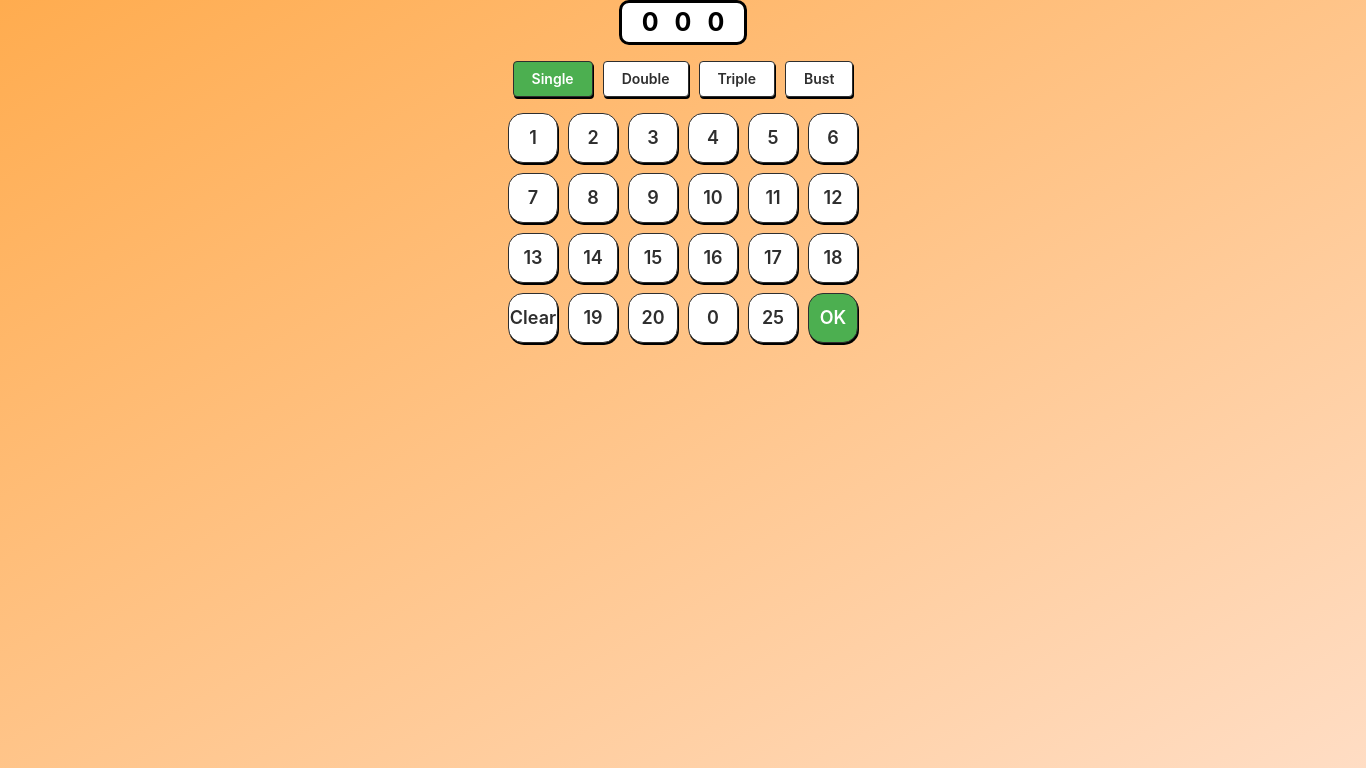
Test: InputThrowTornooi › should show error when throwing more then 3 darts
Click the button "20" at (653, 318), box [628, 293, 678, 343]
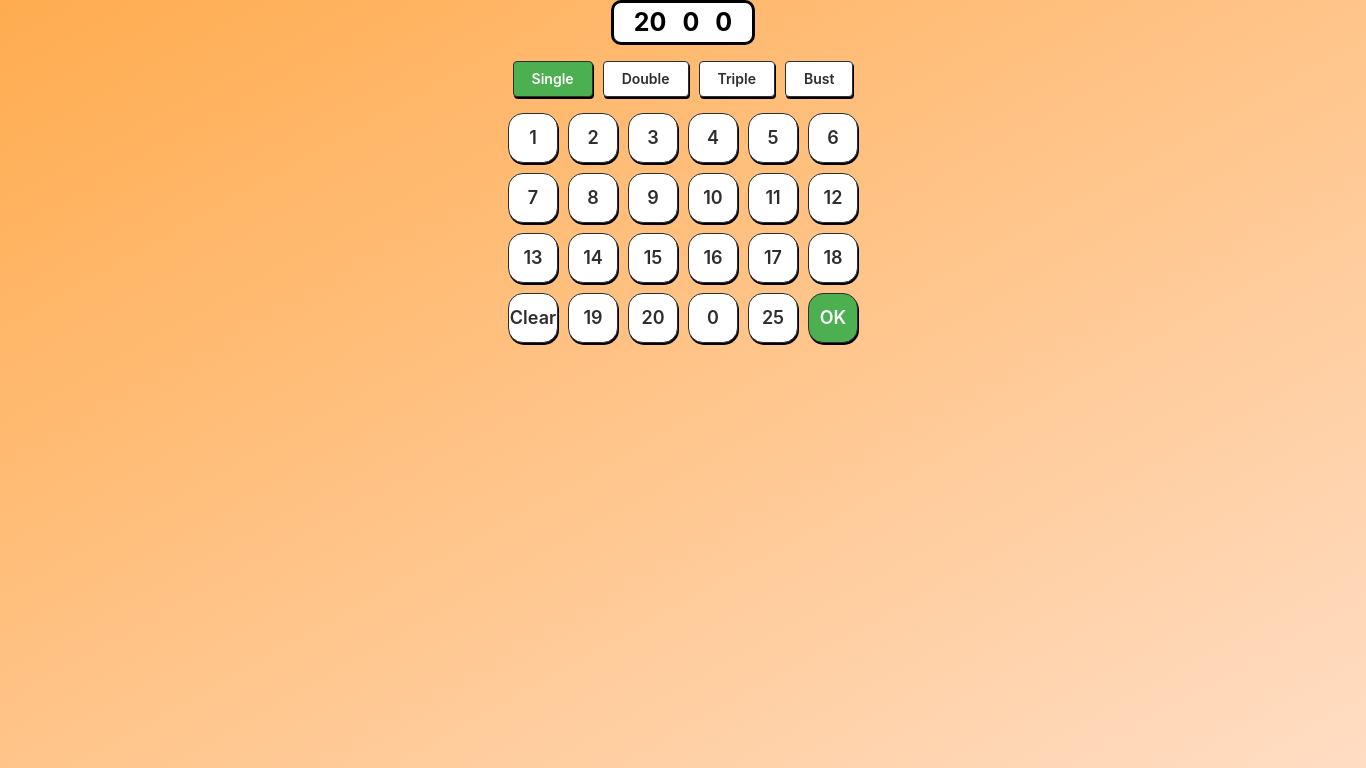
Click the button "20" at (653, 318), box [628, 293, 678, 343]
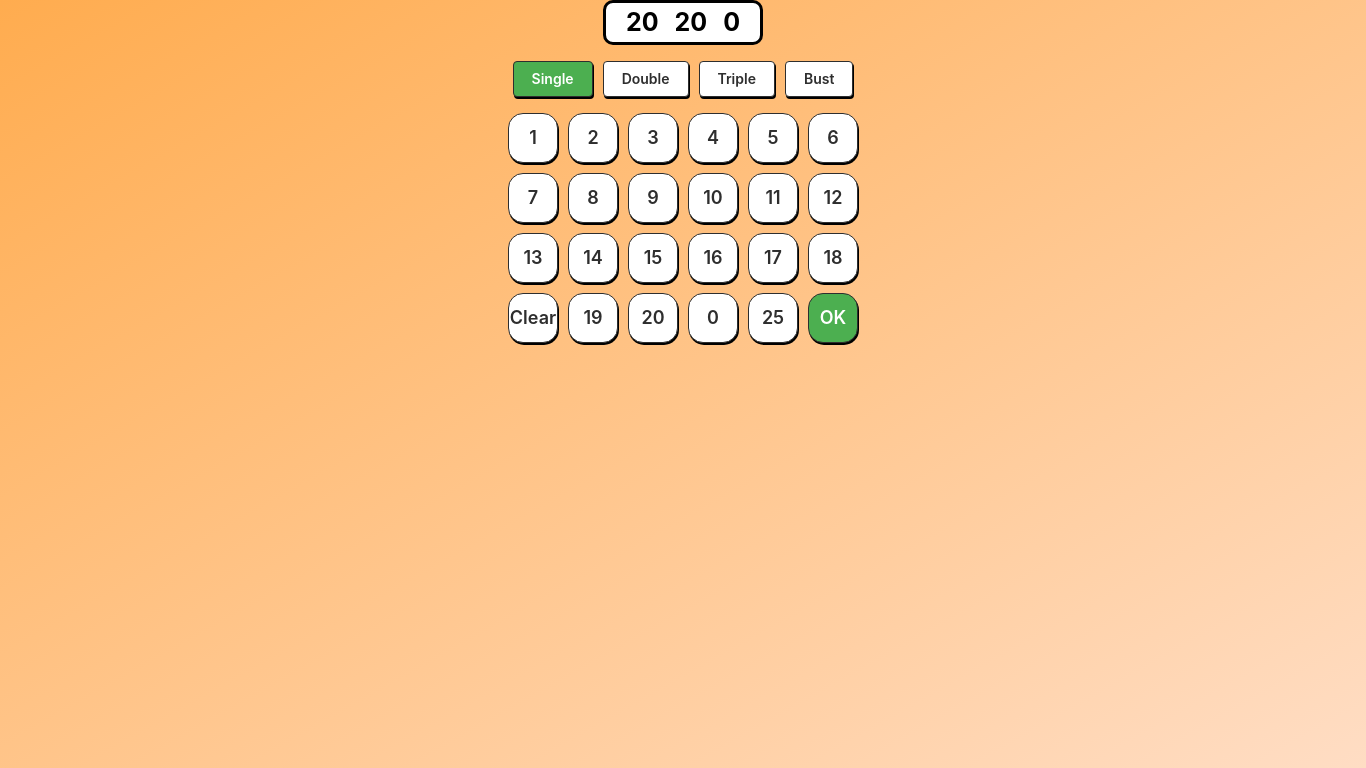
Click the button "20" at (653, 318), box [628, 293, 678, 343]
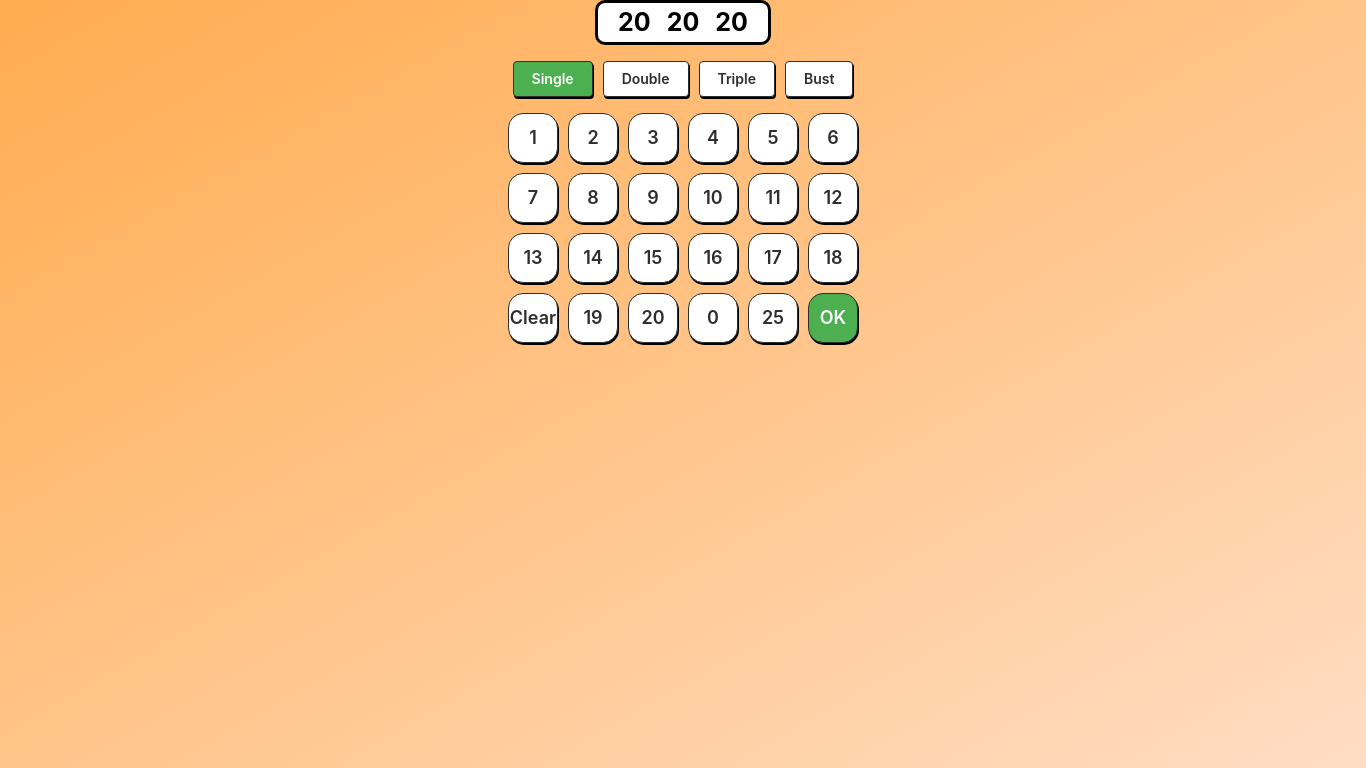
Click the button "20" at (653, 318), box [628, 293, 678, 343]
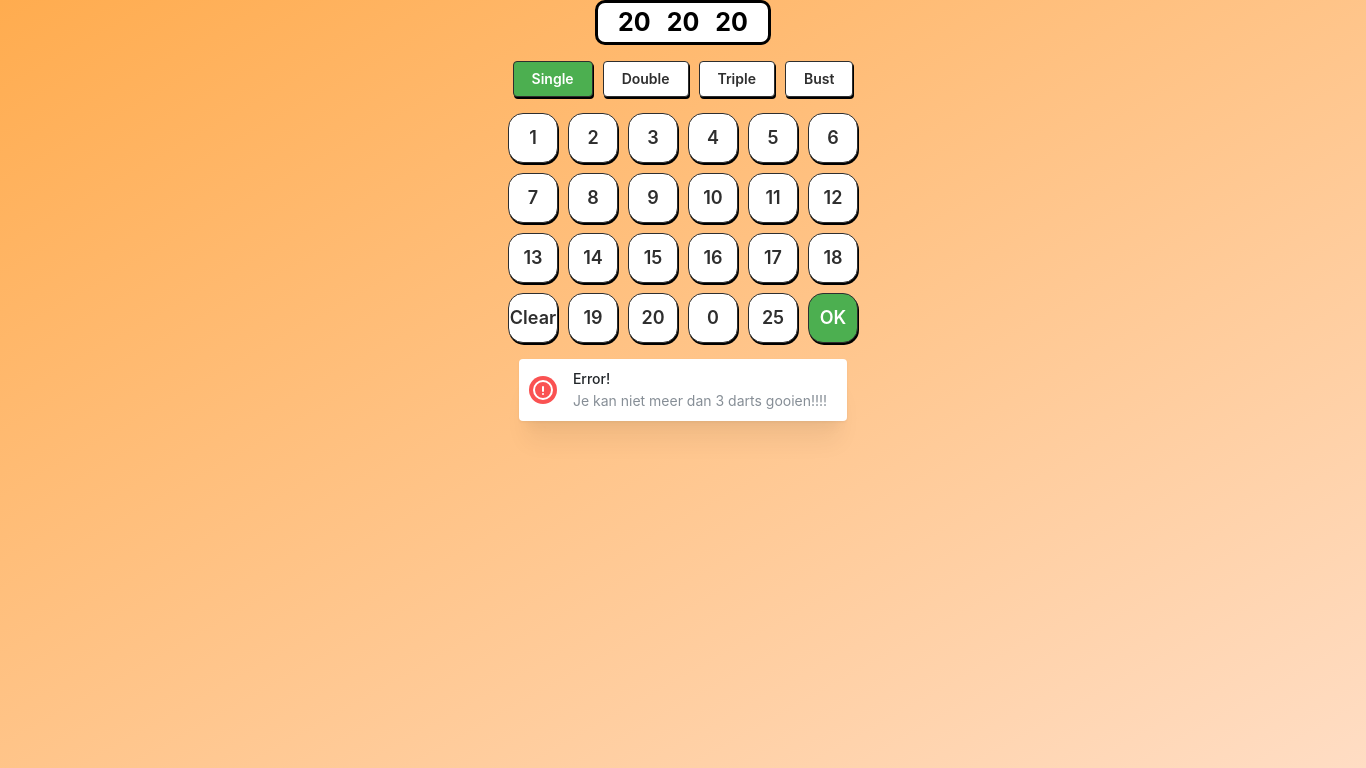
Expected: the text "Je kan niet meer dan 3 darts gooien!!!!" is shown, [573, 391, 827, 411]
